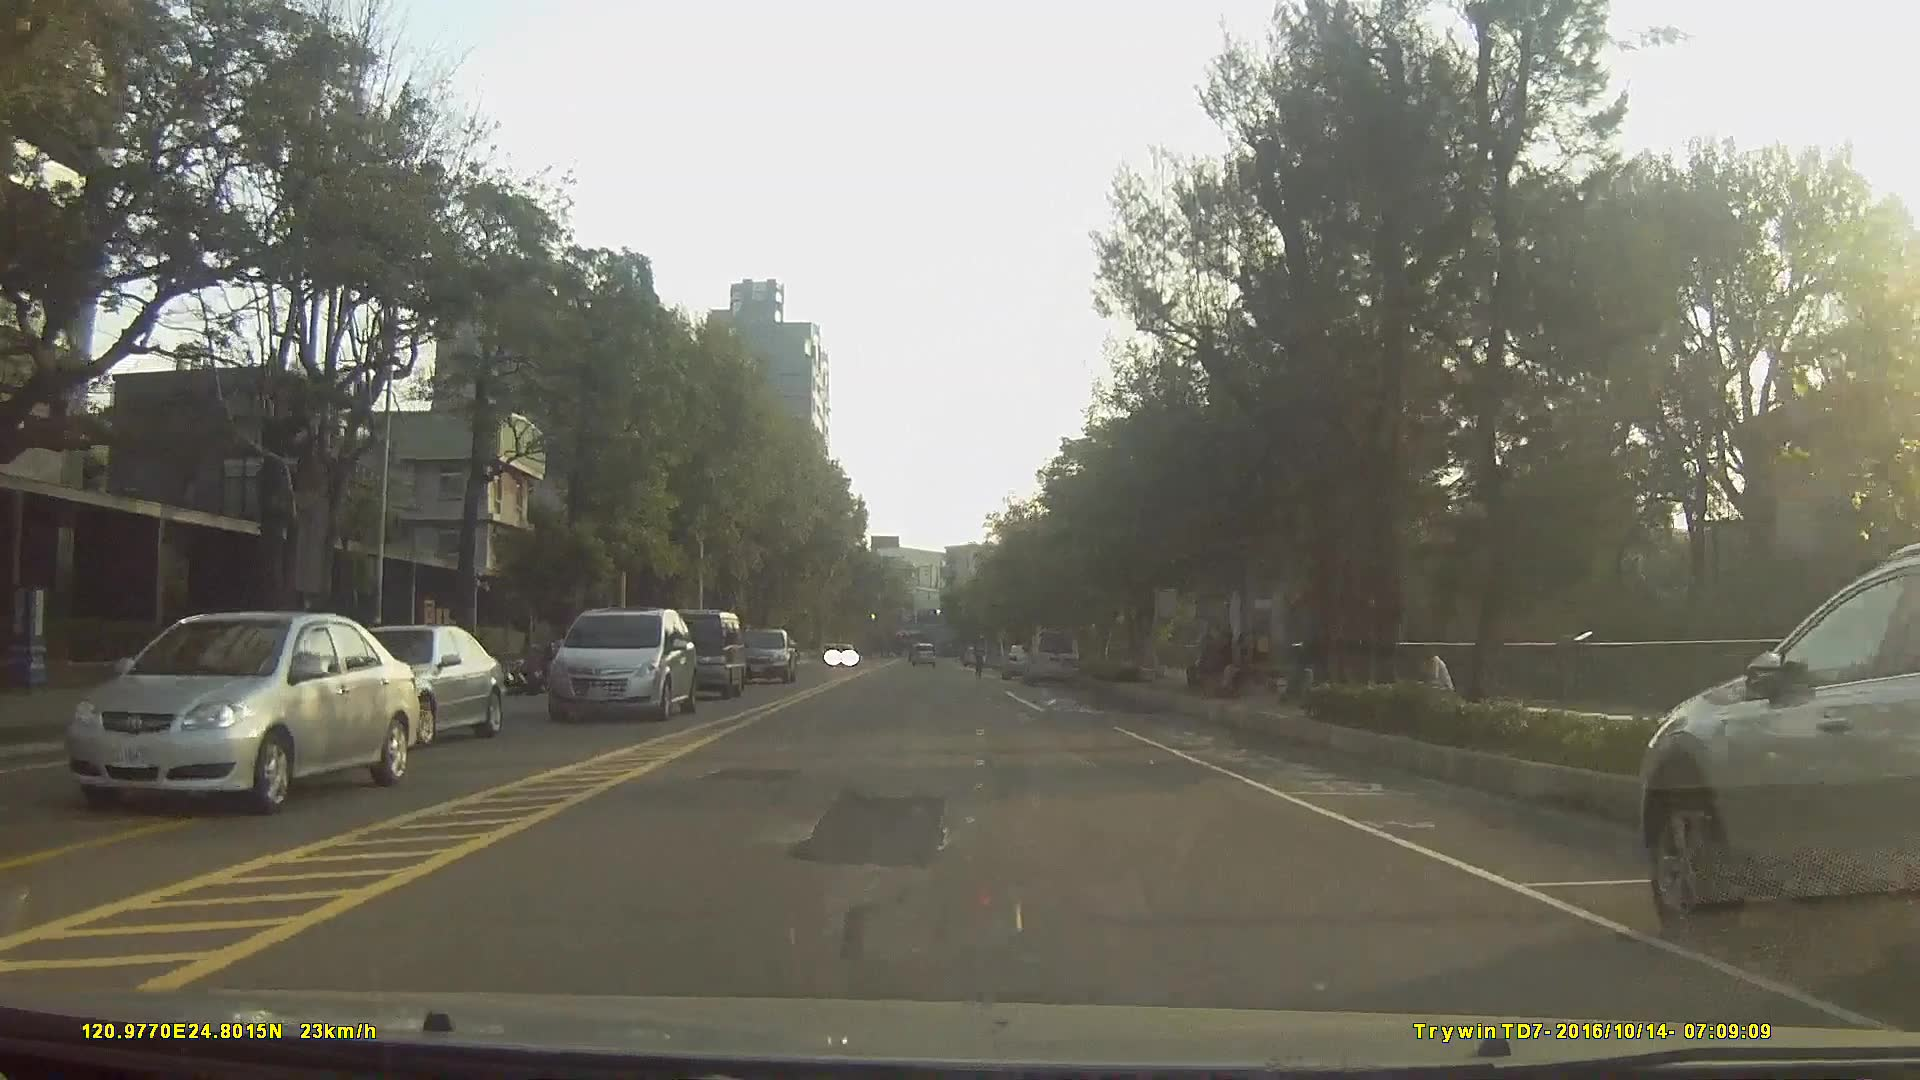rider: (969, 634, 989, 680)
vehicle: (1642, 553, 1920, 970), (66, 607, 421, 813), (325, 622, 501, 747), (541, 605, 696, 721), (646, 603, 743, 694), (1019, 625, 1079, 686), (732, 625, 795, 681), (999, 639, 1038, 680), (909, 639, 936, 665)
